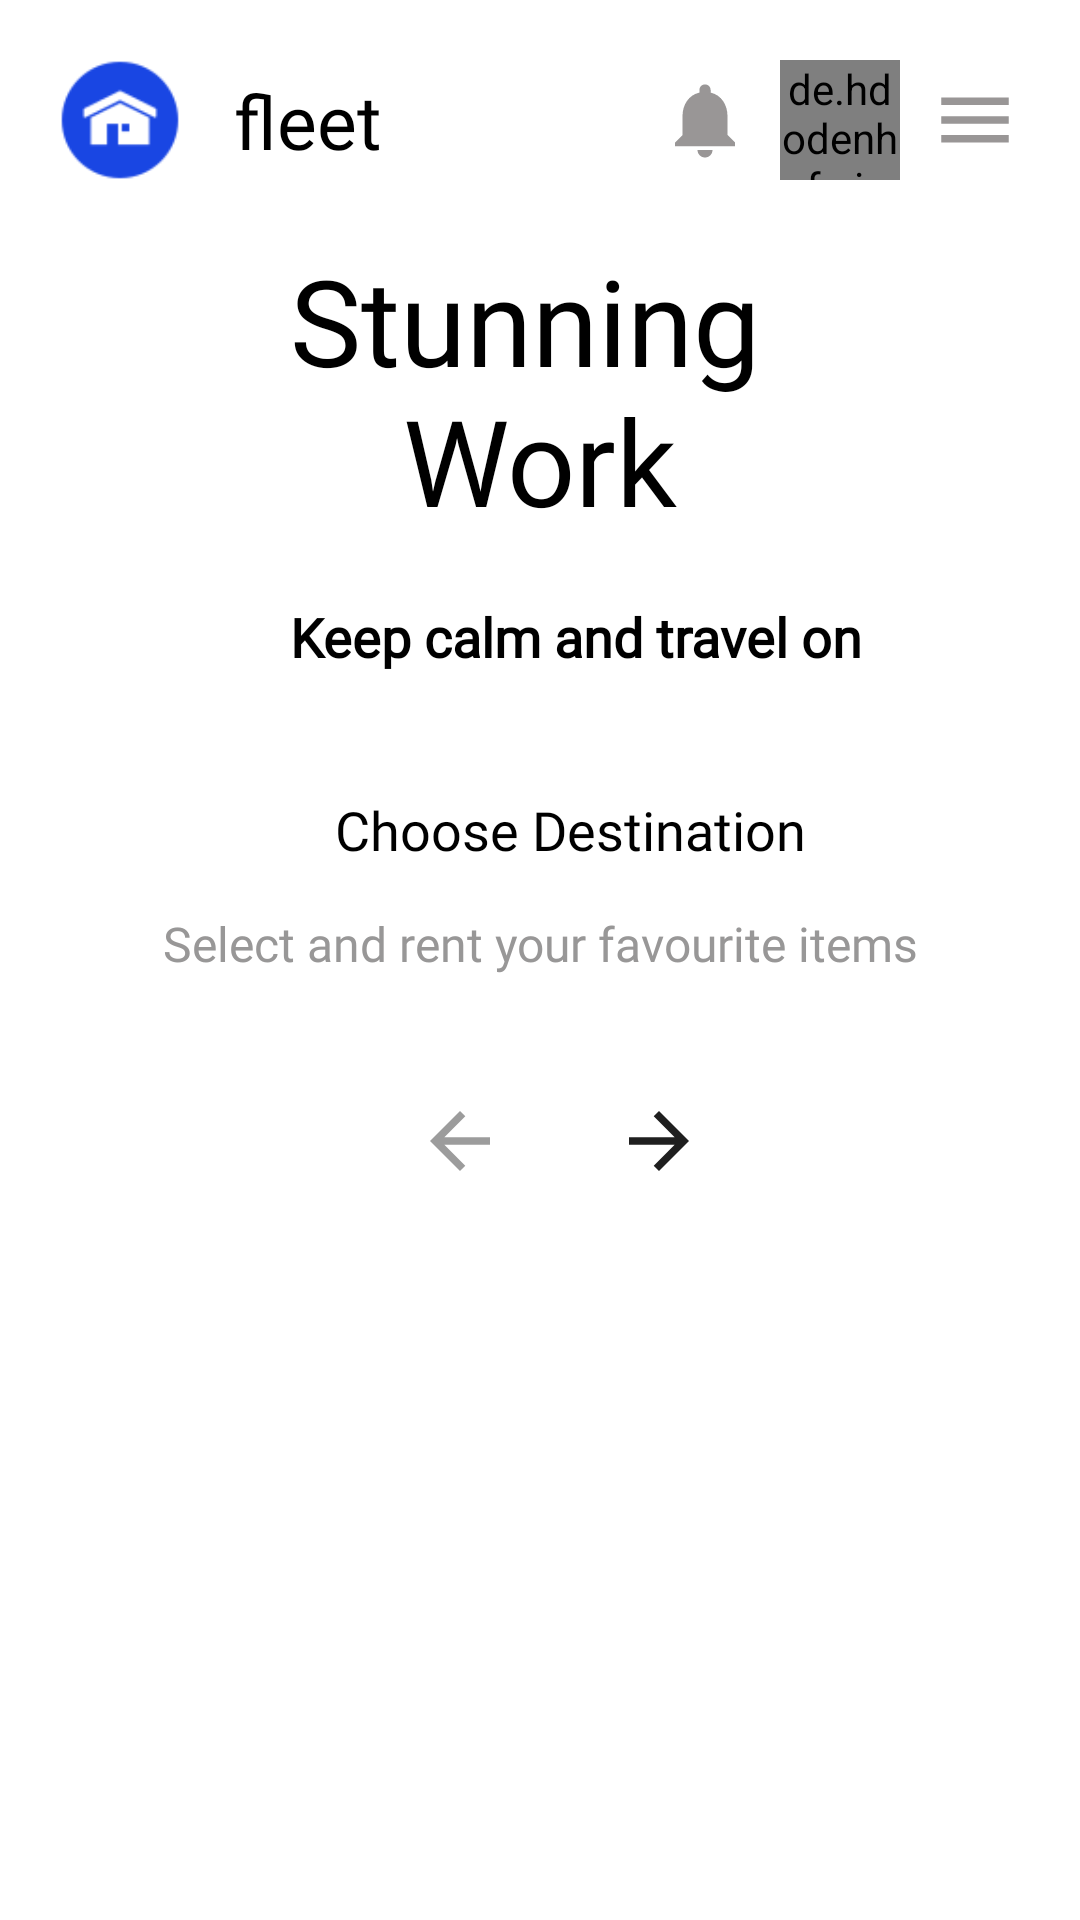

Icons on this 1080px×1920px Android screen, each with the point to tap as (x=x, y=y):
arrow back: (x=460, y=1141)
arrow forward: (x=659, y=1141)
homeiconblue: (x=120, y=120)
menu: (x=975, y=120)
notification: (x=705, y=121)
